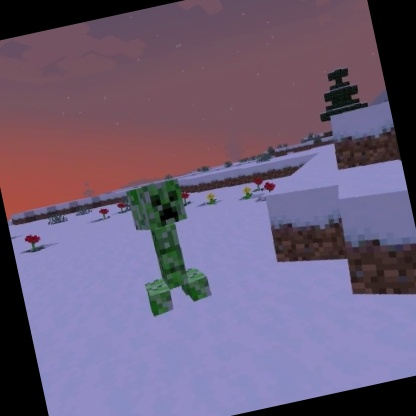creeper: (121, 171, 219, 321)
